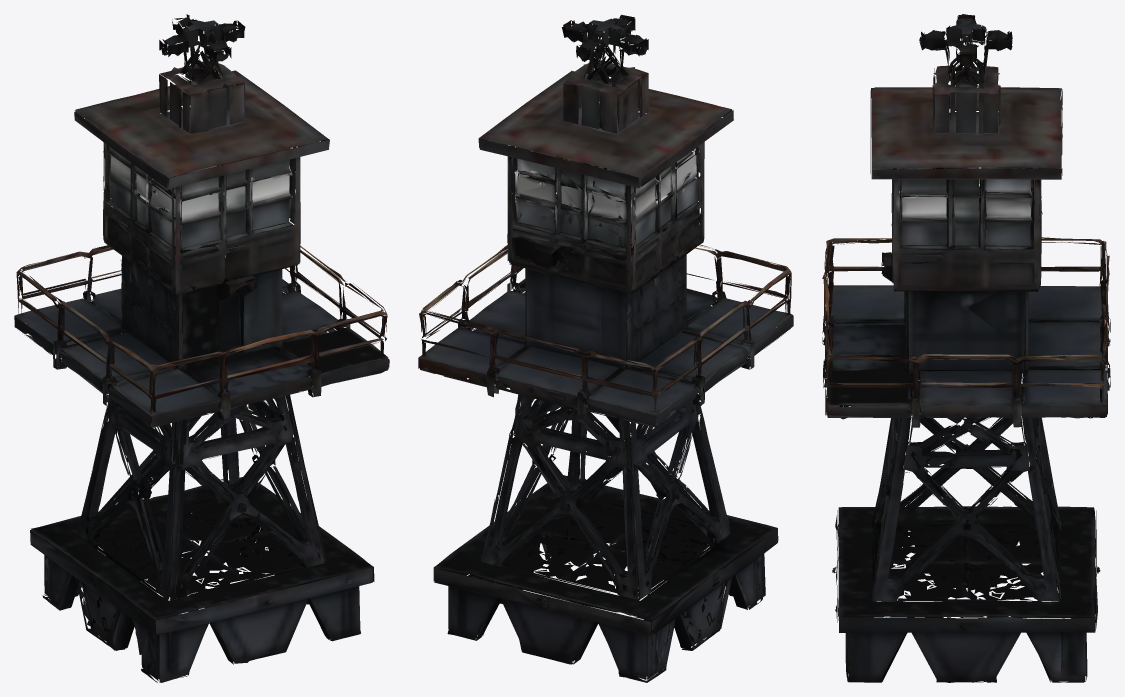
File: wobani-watchtower.glb
3 renders of one model, left to right at view 1: azimuth 30°, elevation 25°; view 2: azimuth 150°, elevation 25°; view 3: azimuth 270°, elevation 25°, orthographic. The views are drawn at different scales.
Parts seen in each view (by area): view 1: low; view 2: low; view 3: low.
Part boxes in pixels (x1,y1,x2,y2): low: [14, 14, 389, 682]; low: [418, 14, 793, 682]; low: [822, 14, 1110, 682].
Bounding box in the file's own units: 0.4329 × 1.01 × 0.4333.
Materials: 1 (1 with a texture image).
